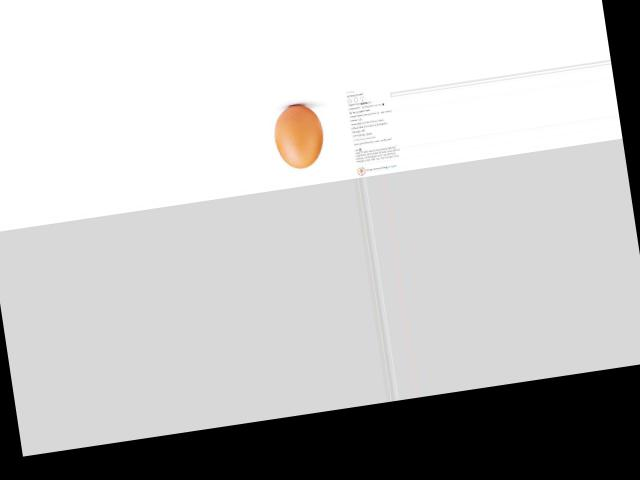egg: (270, 101, 327, 171)
